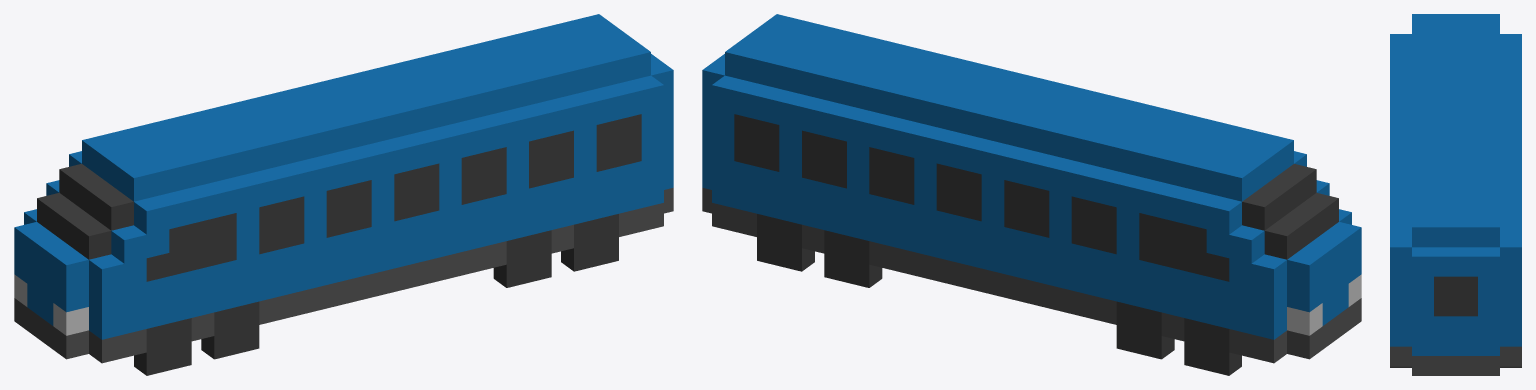
File: train-v2-blue.gltf
The picture shows the model from 3 angles, left to right: view 1: azimuth 30°, elevation 25°; view 2: azimuth 150°, elevation 25°; view 3: azimuth 270°, elevation 25°; orthographic projection. The views are drawn at different scales.
Parts seen in each view (by area): view 1: model, wheels; view 2: model, wheels; view 3: model.
Boxes of the visible parts, x1,y1,x2,y2 form: model: (14,14,673,363); wheels: (134,214,618,375); model: (702,14,1361,363); wheels: (757,214,1241,375); model: (1390,14,1521,375).
Size of the model in its own units: 2.7 by 0.8 by 0.6.
2 materials, 2 textured.
